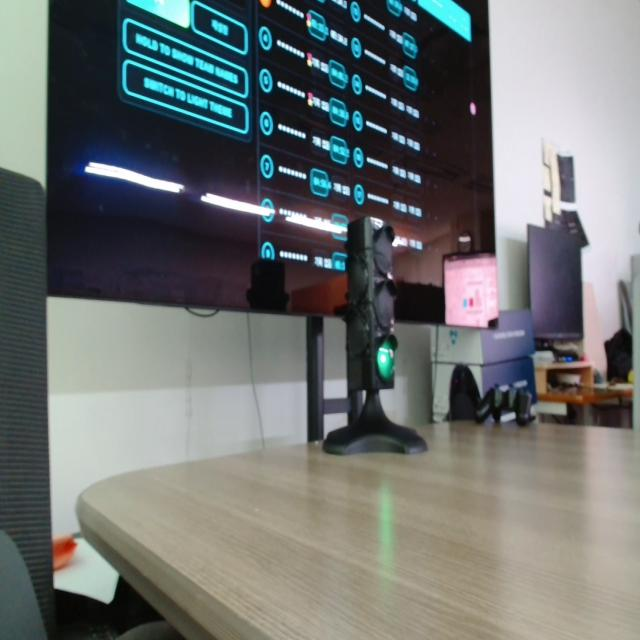green_light: (377, 339, 396, 382)
